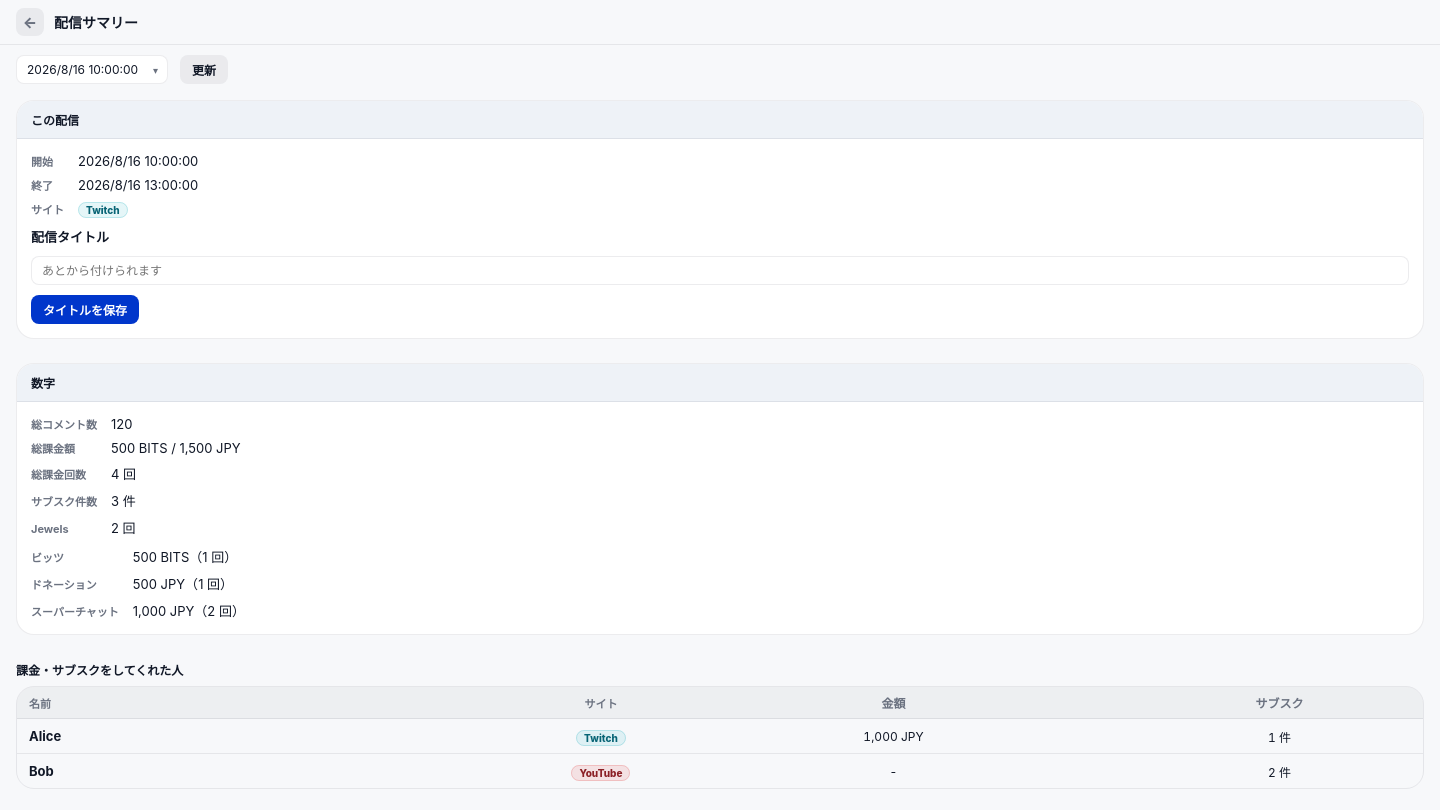
SummaryView 配信タイトル › 既存の update_stream_session_title を呼ぶだけ（検証は Rust 側）
In the field labelled "配信タイトル": [720, 270] box [31,256,1409,285], type "配信タイトル"
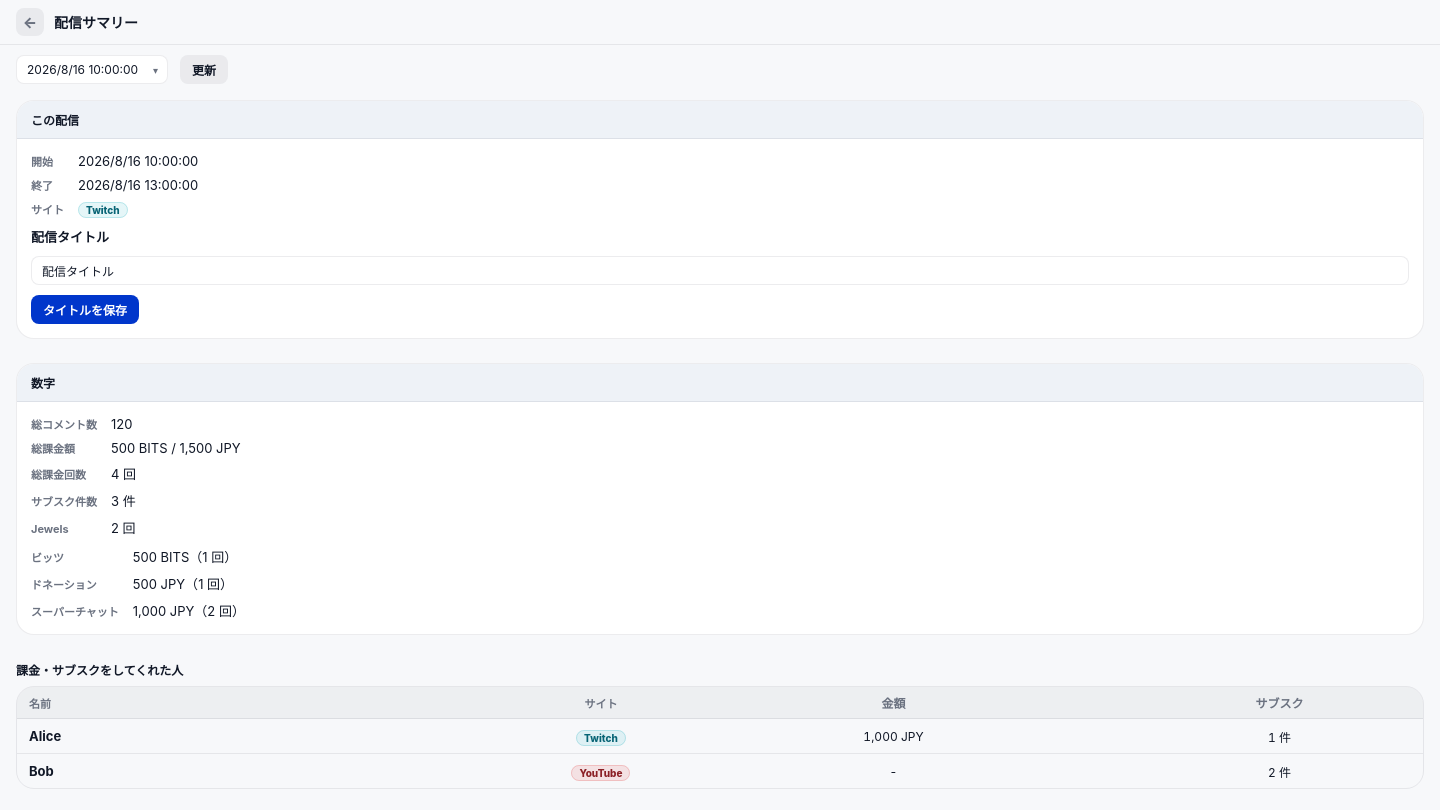
Click the button "タイトルを保存": [85, 310] box [31,295,139,324]
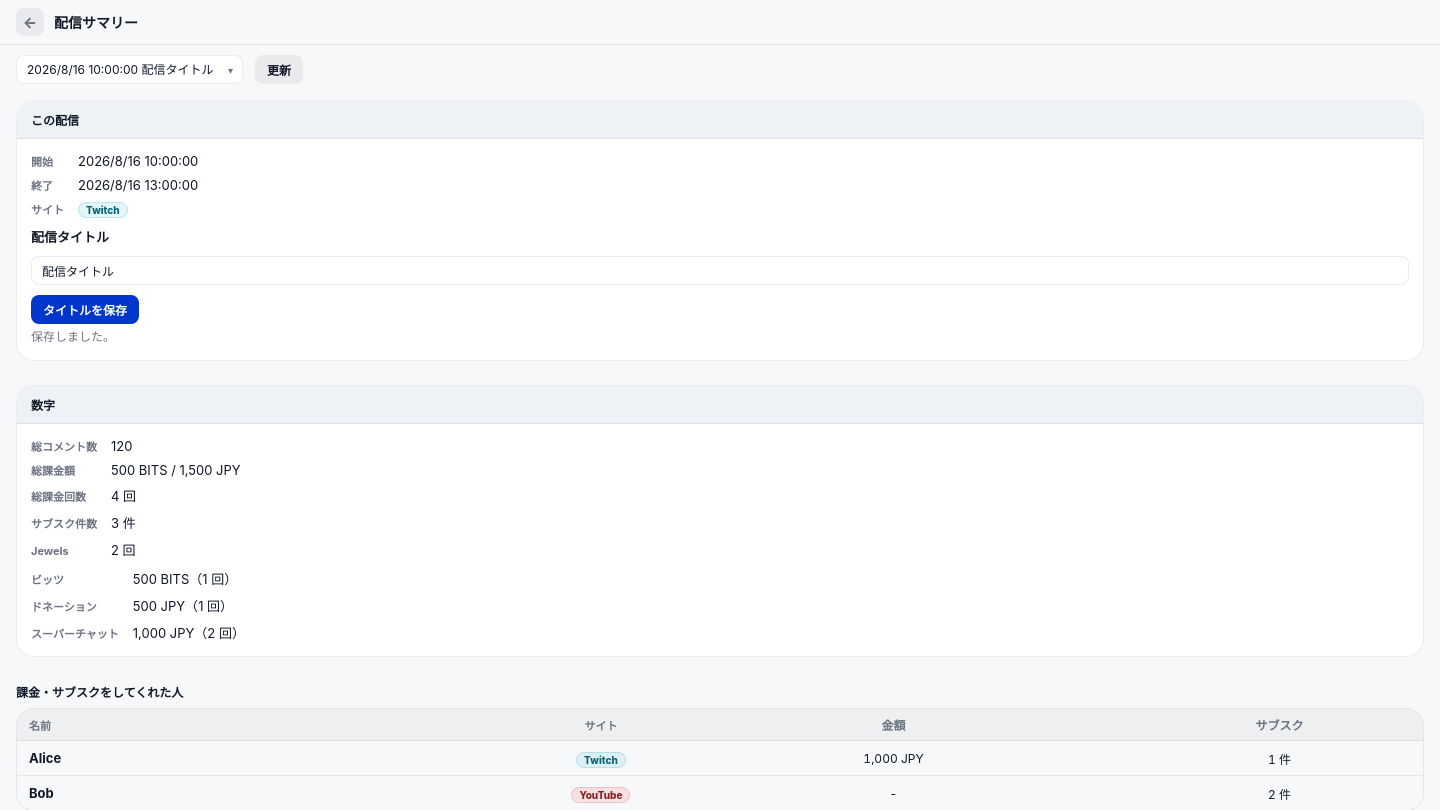
Result: the text "保存しました。" is shown at [31,329,115,344]
